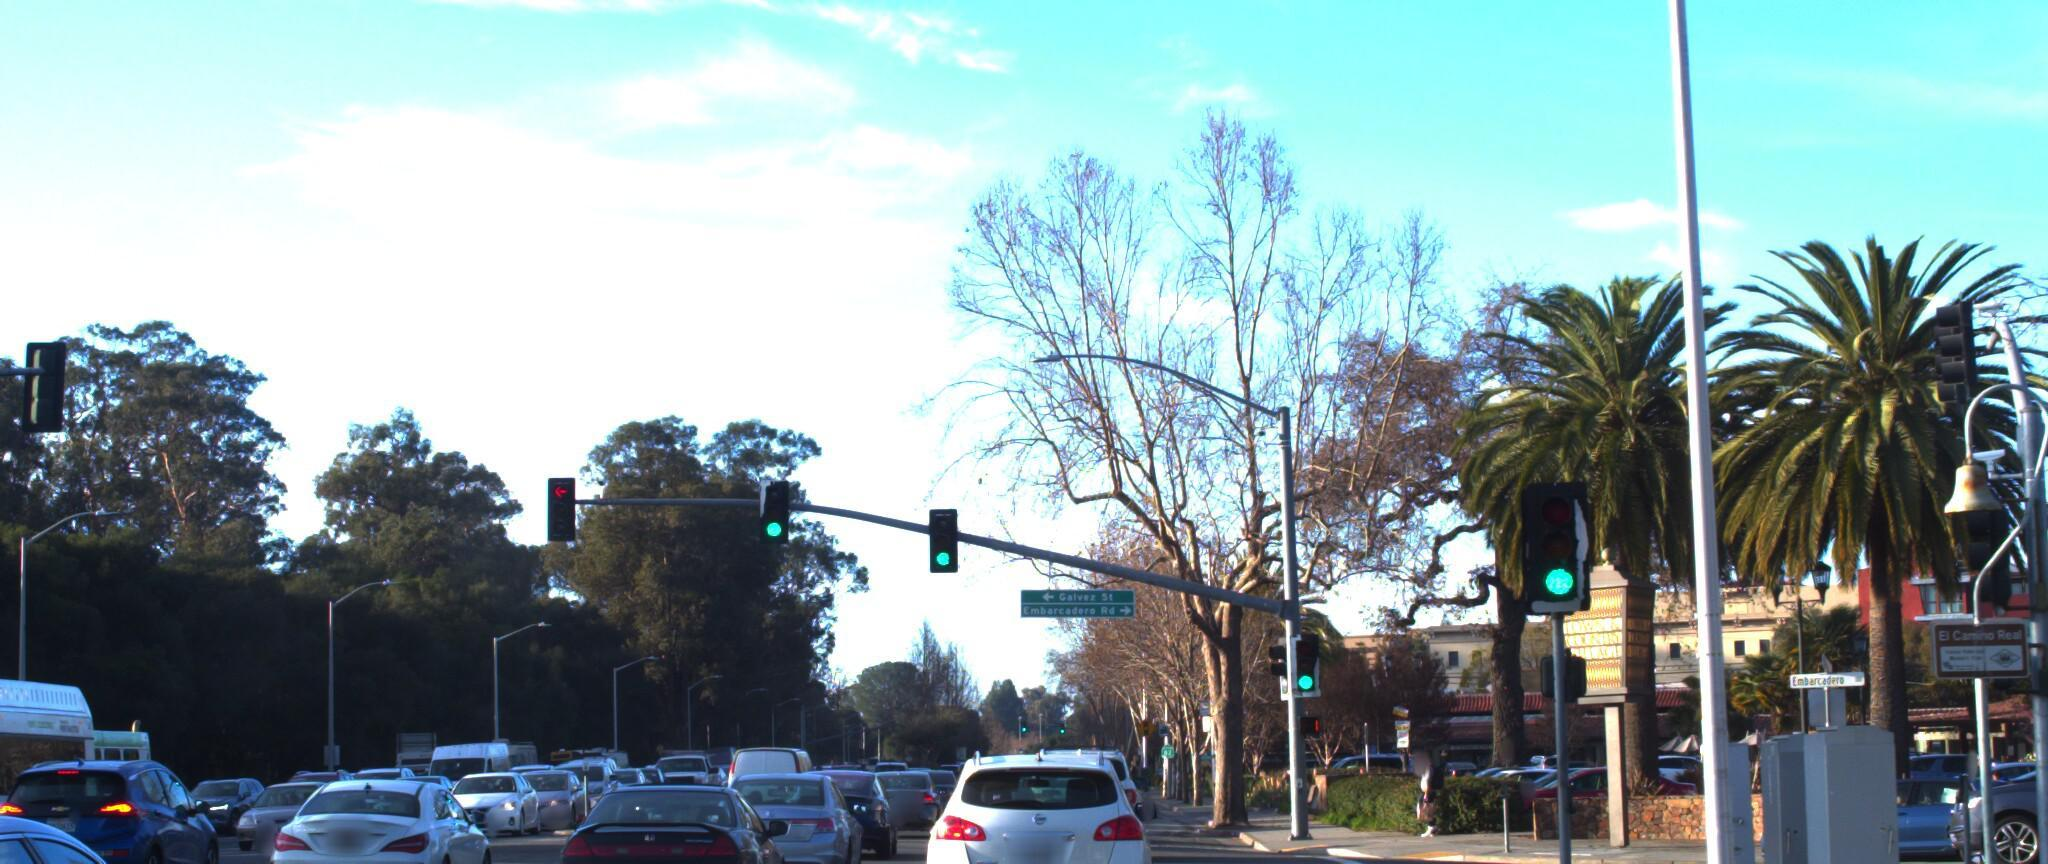bus: (3, 697, 229, 834), (0, 647, 106, 864)
car: (0, 705, 274, 864), (922, 720, 1169, 864), (1729, 752, 2024, 861), (0, 762, 317, 864), (280, 724, 503, 864), (556, 747, 794, 864), (701, 737, 871, 864), (1916, 715, 2048, 860), (1482, 743, 1699, 820), (0, 698, 94, 864), (213, 766, 345, 841), (431, 752, 541, 825), (737, 726, 833, 808), (865, 740, 956, 821), (494, 747, 590, 818)
